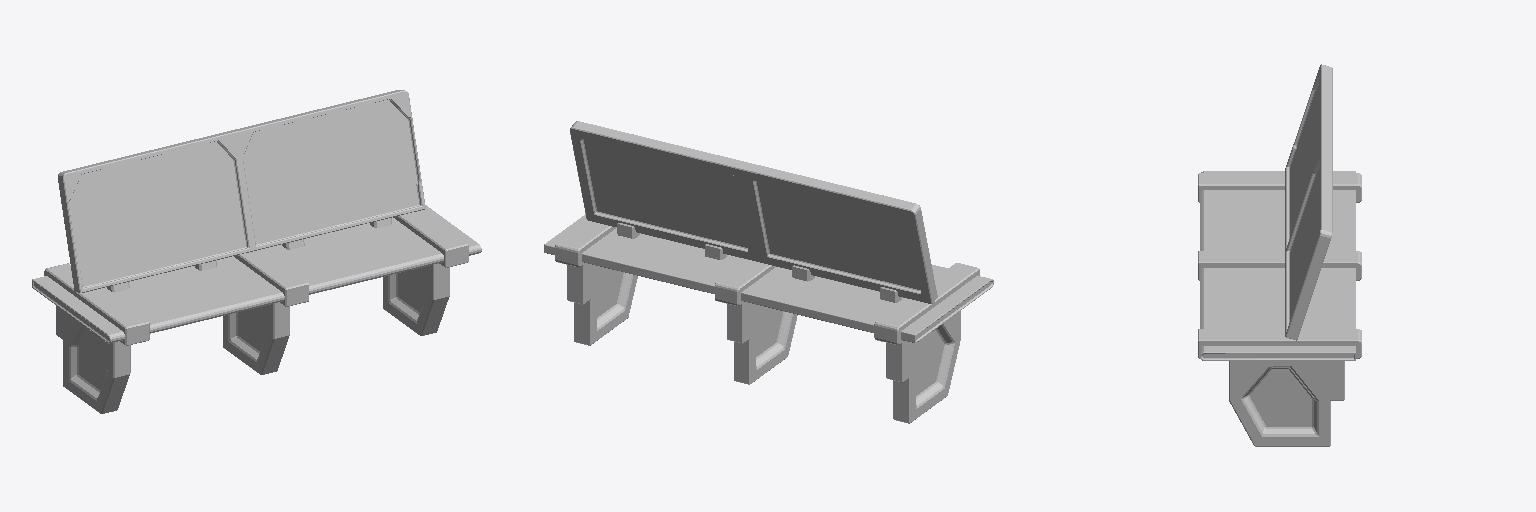
File: bench.obj
3 views of the same model, side by side, from view 1: azimuth 30°, elevation 25°; view 2: azimuth 150°, elevation 25°; view 3: azimuth 270°, elevation 25° (orthographic).
Visible parts, largest first — view 1: Rest.001; view 2: Rest.001; view 3: Rest.001.
Part boxes in pixels (x1,y1,x2,y2): Rest.001: (32, 90, 481, 413); Rest.001: (544, 121, 993, 423); Rest.001: (1198, 64, 1361, 446).
Size of the model in its own units: 2.04 by 1.14 by 0.7812.